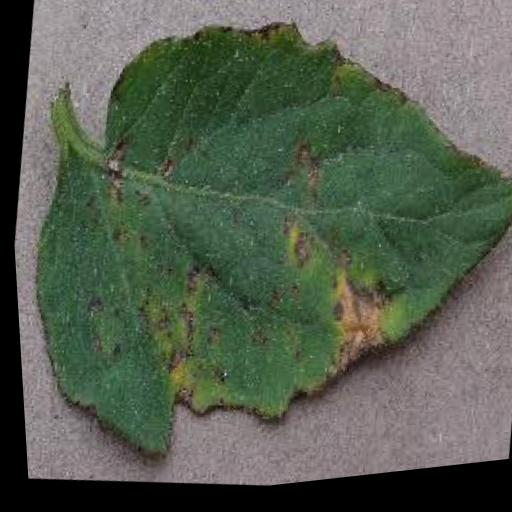Bacterial Spot: (1, 0, 512, 512)
